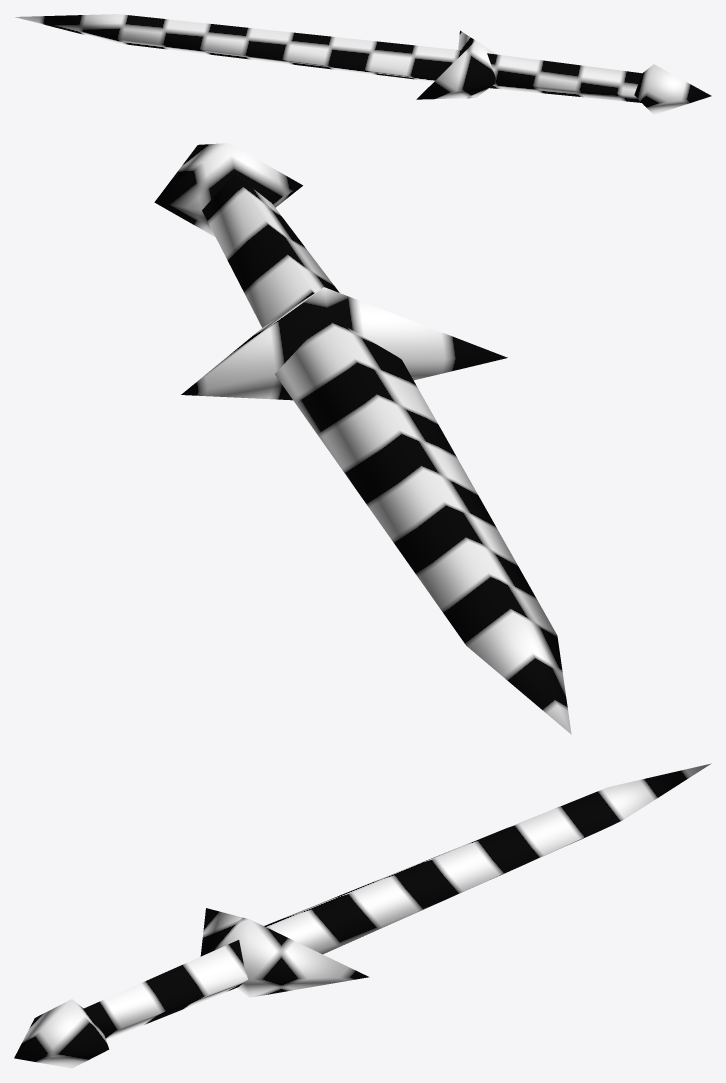
The model's file is initwedg2.dae.
3 views of the same model, one above another, from view 1: azimuth 30°, elevation 25°; view 2: azimuth 150°, elevation 25°; view 3: azimuth 270°, elevation 25° (orthographic). The views are drawn at different scales.
Parts seen in each view (by area): view 1: weapon; view 2: weapon; view 3: weapon.
Part boxes in pixels (<box>): weapon: <box>15,14,711,114</box>; weapon: <box>154,143,571,734</box>; weapon: <box>14,763,711,1068</box>.
Bounding box in the file's own units: 1.9 × 1.9 × 0.2355.
1 material, 1 textured.
